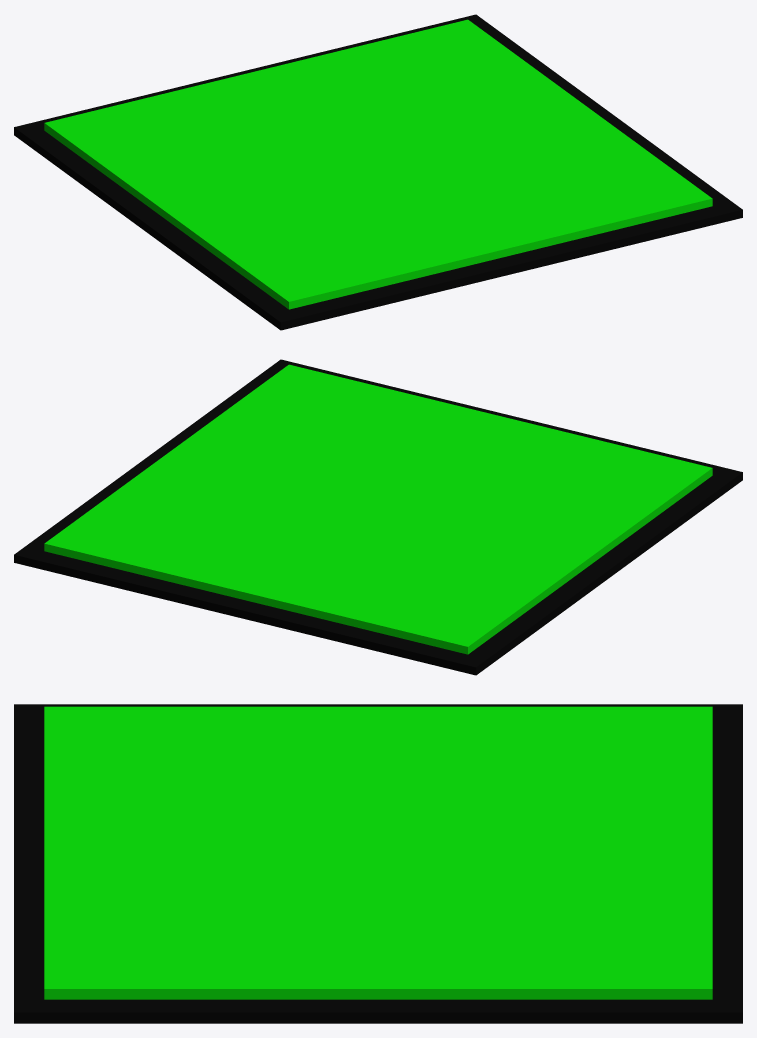
The model's file is GreenPanel.fbx.
The picture shows the model from 3 angles, top to bottom: view 1: azimuth 30°, elevation 25°; view 2: azimuth 150°, elevation 25°; view 3: azimuth 270°, elevation 25°; orthographic projection. The views are drawn at different scales.
Visible parts, largest first — view 1: pCube3; view 2: pCube3; view 3: pCube3.
Boxes of the visible parts, x1,y1,x2,y2 form: pCube3: (14,14,742,330); pCube3: (14,359,742,675); pCube3: (14,704,742,1023).
Bounding box in the file's own units: 3 × 0.0979 × 3.
